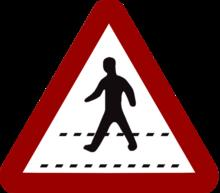Pedestrian Crossing: (15, 19, 215, 184)
